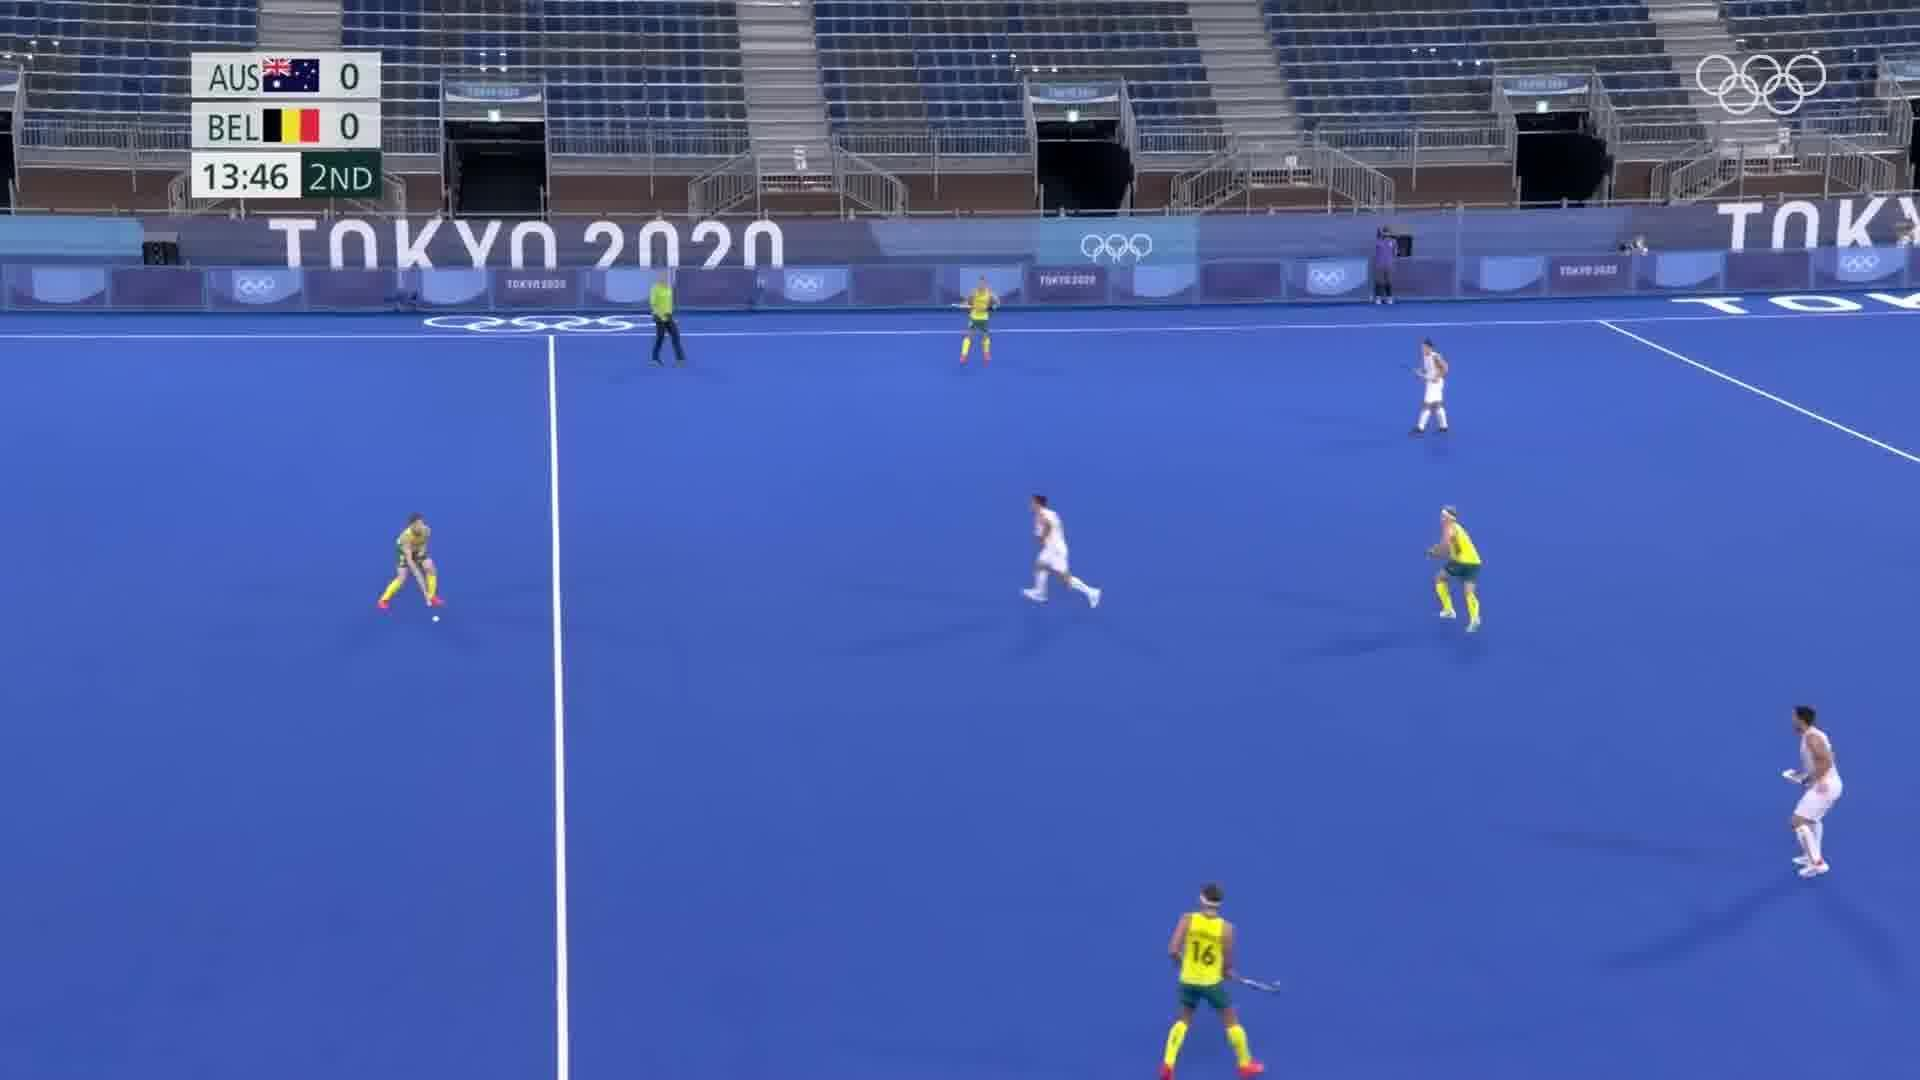ball: (423, 610, 448, 631)
